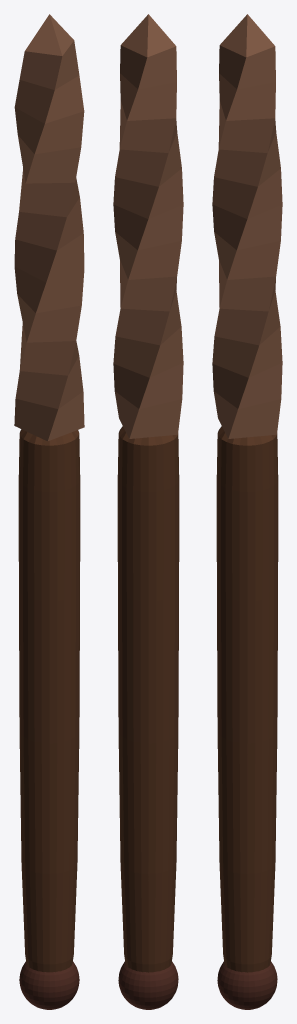
Rendered from Wand 53.glb.
3 renders of one model, left to right at view 1: azimuth 90°, elevation 25°; view 2: azimuth 150°, elevation 25°; view 3: azimuth 330°, elevation 25°, orthographic.
Visible parts, largest first — view 1: GeneratedWand; view 2: GeneratedWand; view 3: GeneratedWand.
Boxes of the visible parts, box(x1,y1,x2,y2) form: GeneratedWand: box(14, 14, 84, 1009); GeneratedWand: box(113, 14, 183, 1009); GeneratedWand: box(212, 14, 282, 1009).
Bounding box in the file's own units: 0.0311 × 0.4866 × 0.0311.
